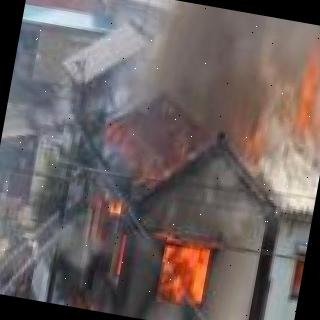fire: (64, 181, 283, 320), (293, 68, 320, 159), (292, 243, 308, 295)
